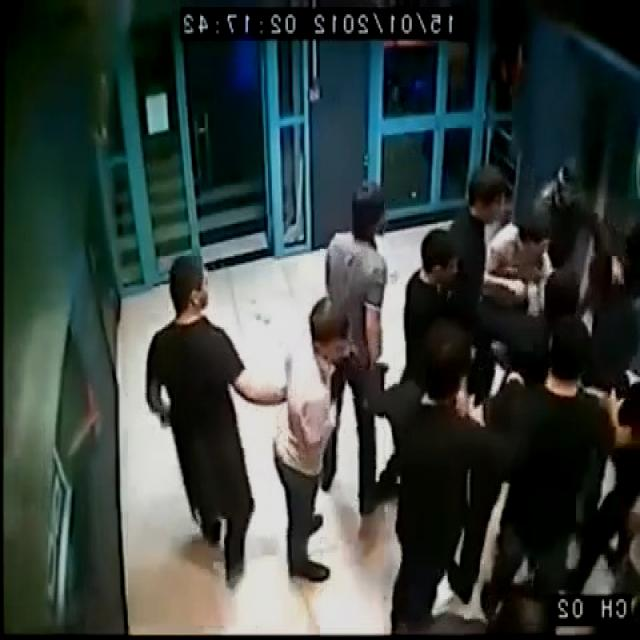fight: (455, 159, 593, 412)
